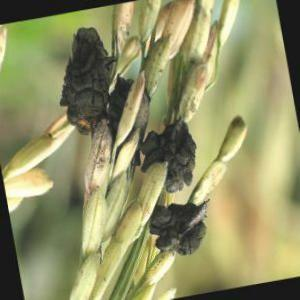Leaf_Scald: (64, 25, 107, 132), (152, 125, 195, 194), (148, 205, 202, 259)
